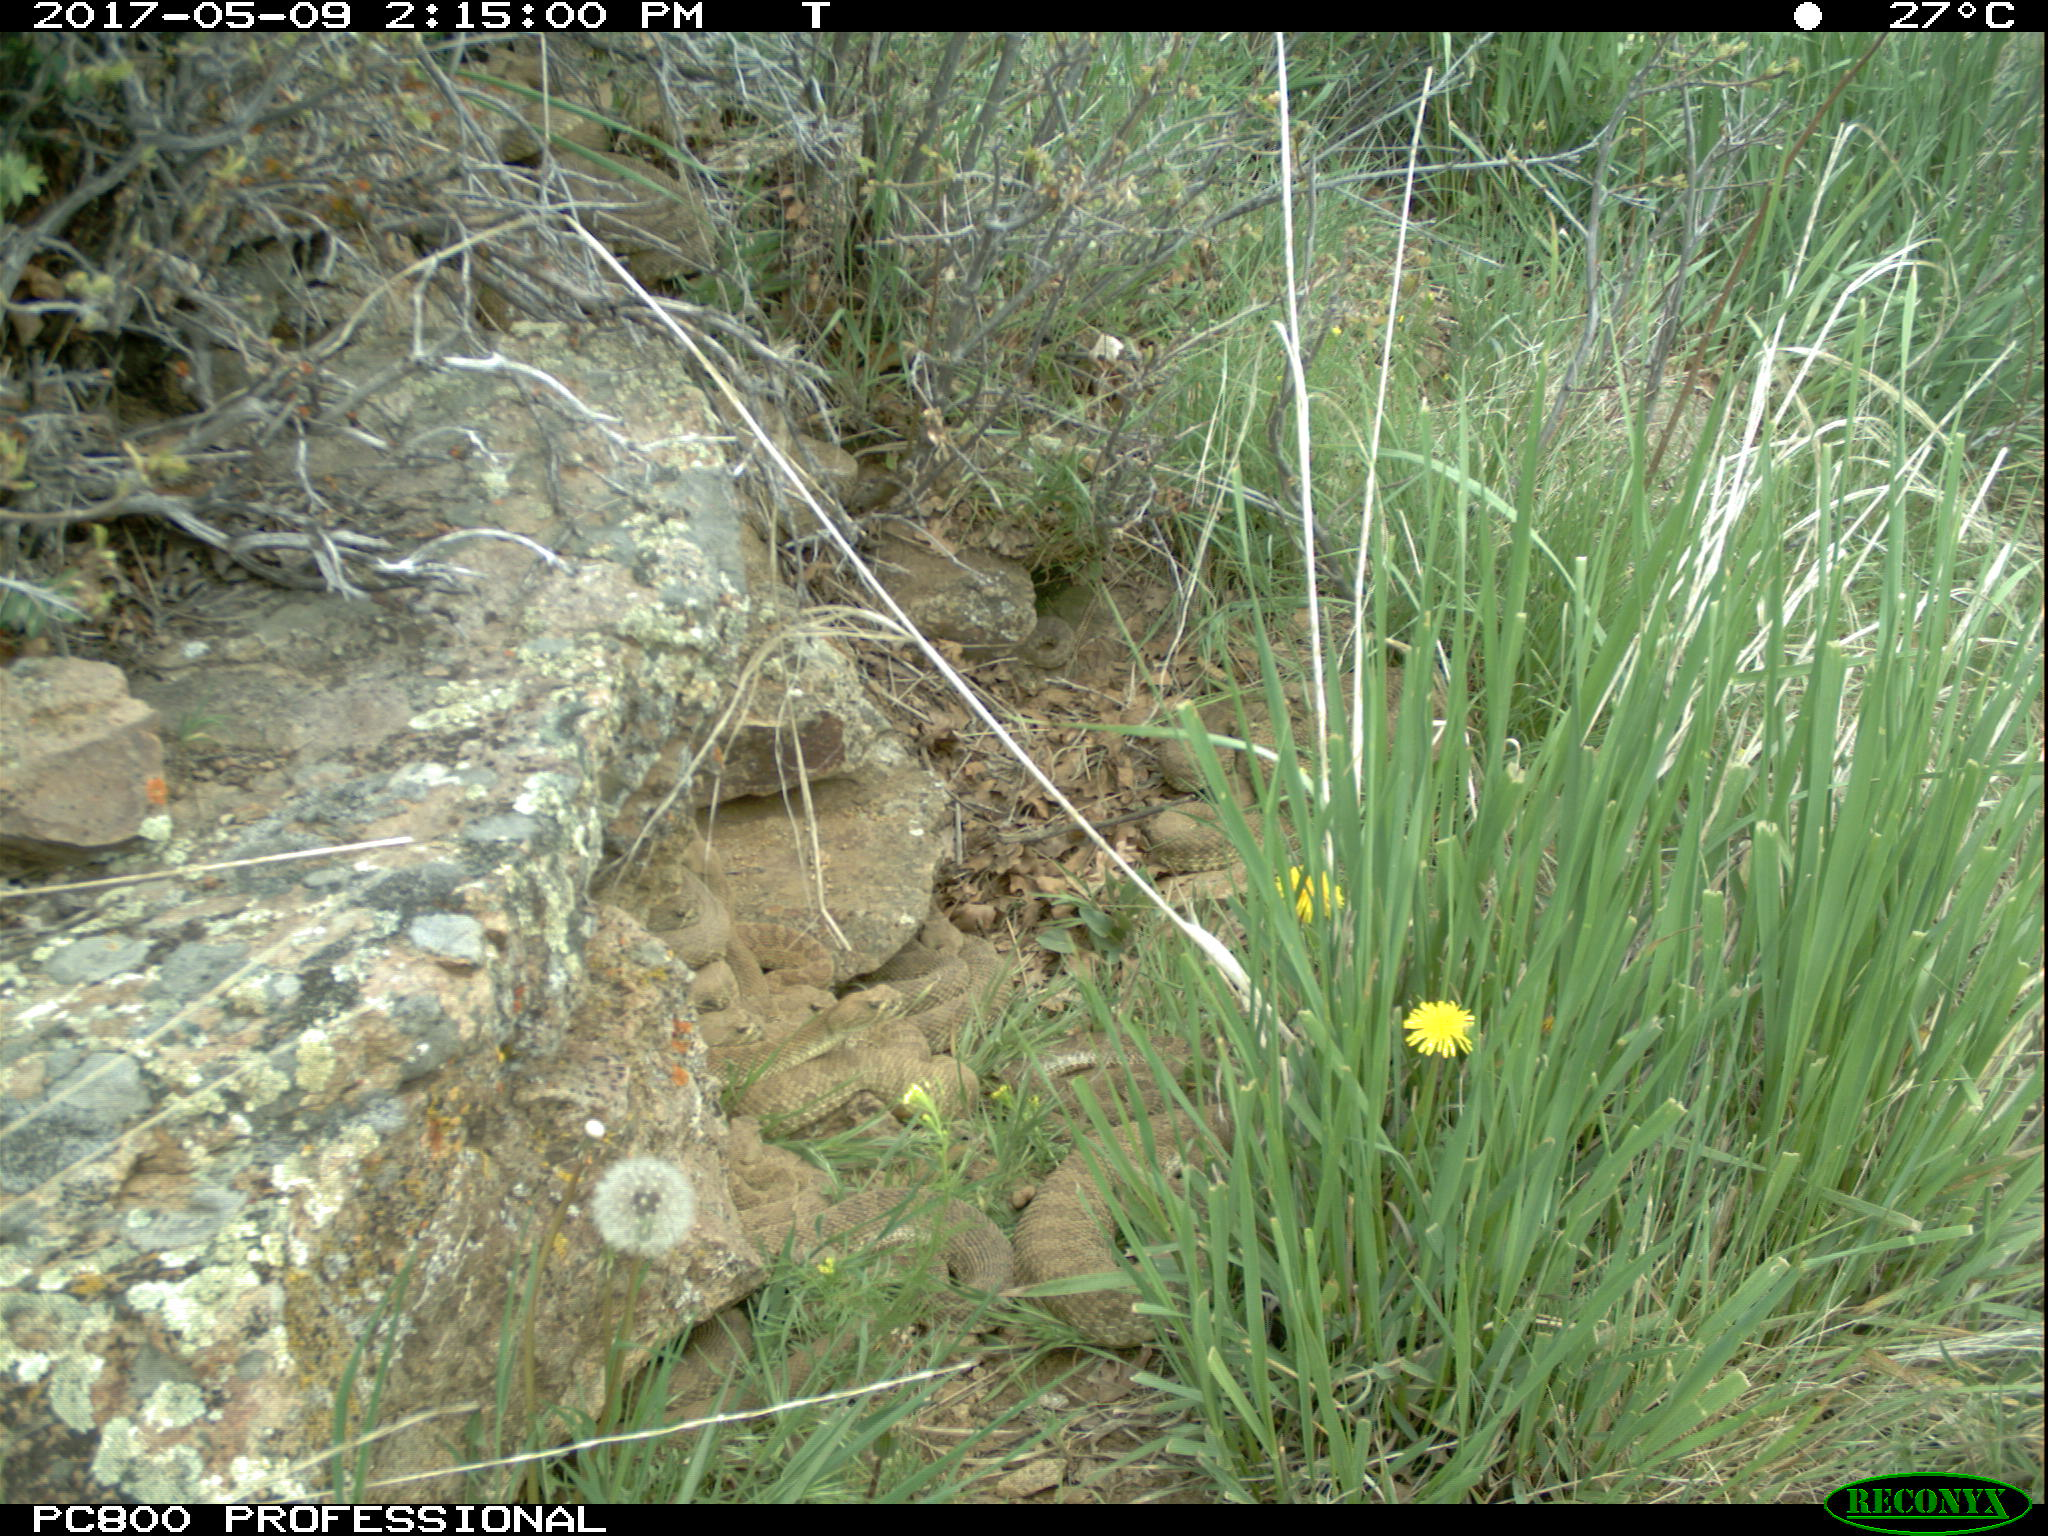snake: (632, 871, 997, 1121), (1026, 1076, 1256, 1350), (743, 1142, 1009, 1334), (1145, 682, 1343, 876), (626, 1318, 863, 1441)
